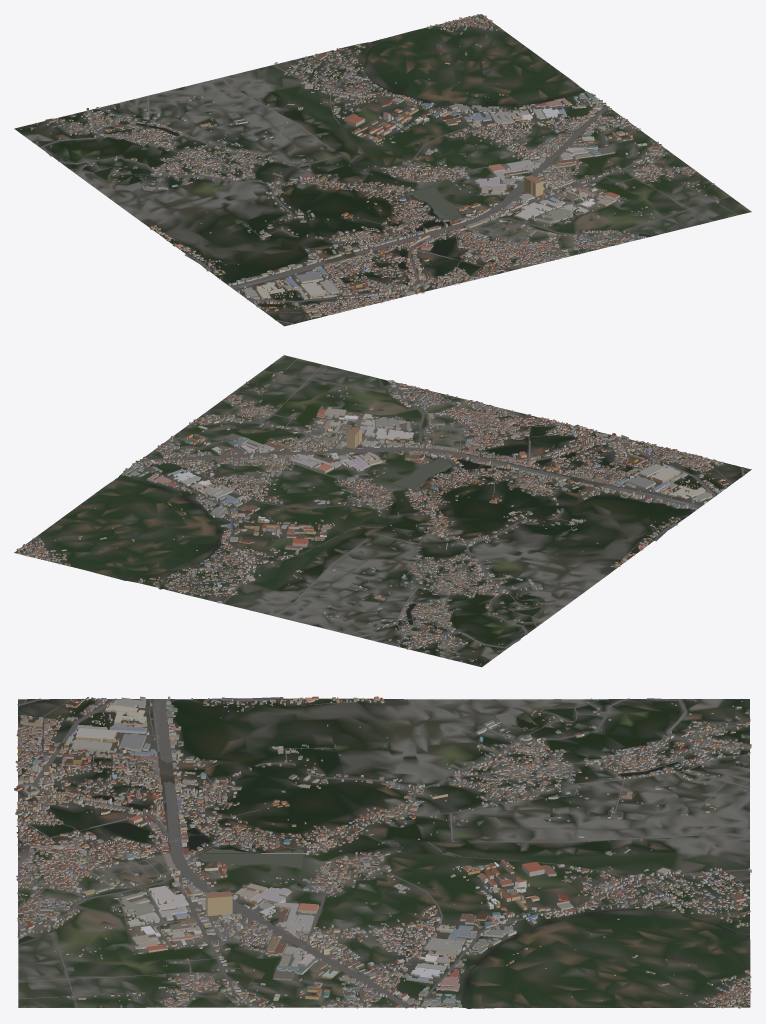
The picture shows the model from 3 angles, top to bottom: view 1: azimuth 30°, elevation 25°; view 2: azimuth 150°, elevation 25°; view 3: azimuth 270°, elevation 25°; orthographic projection. The views are drawn at different scales.
Visible parts, largest first — view 1: ground, buildings, roads, water; view 2: ground, buildings, roads, water; view 3: ground, buildings, roads, water.
Part boxes in pixels (<box>): ground: <box>14,14,751,326</box>; buildings: <box>20,14,720,318</box>; roads: <box>39,18,738,324</box>; water: <box>116,41,655,282</box>; ground: <box>14,355,751,667</box>; buildings: <box>16,371,730,664</box>; roads: <box>32,358,748,657</box>; water: <box>118,379,741,641</box>; ground: <box>18,698,750,1008</box>; buildings: <box>14,696,751,1008</box>; roads: <box>16,697,750,1008</box>; water: <box>18,700,748,1008</box>.
Bounding box in the file's own units: 2824 × 84.02 × 2827.
